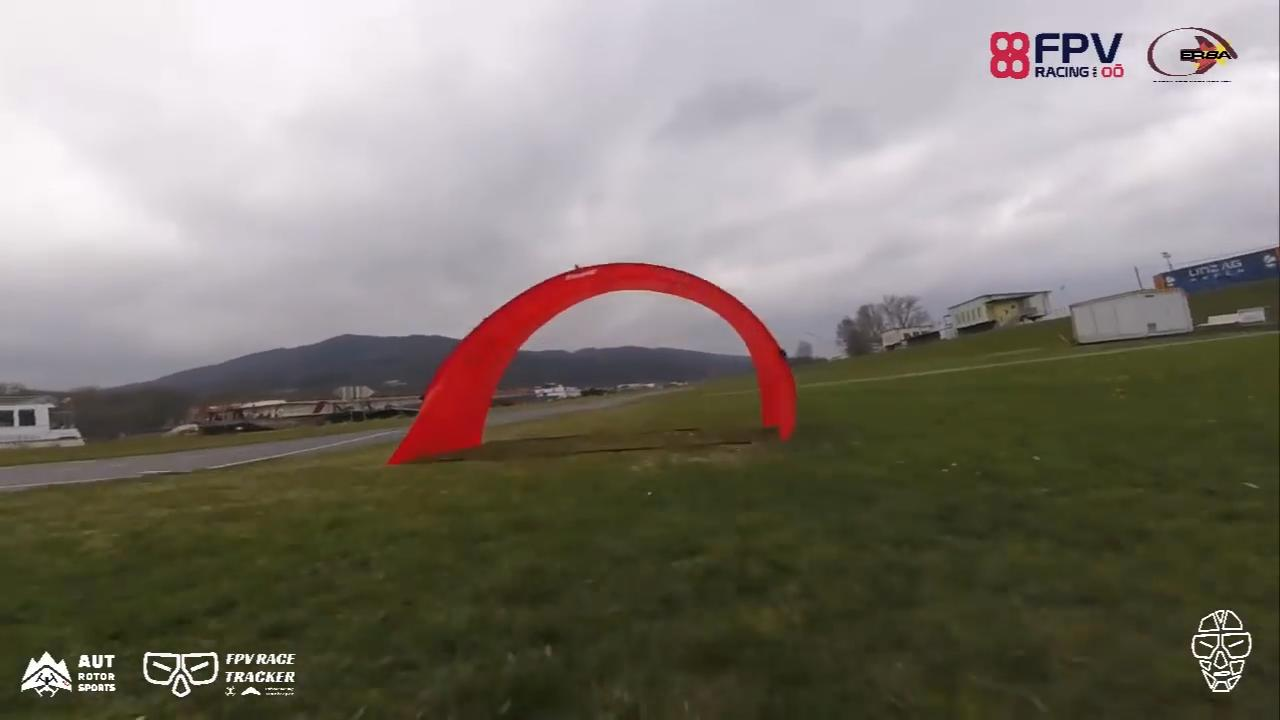gate: (389, 260, 803, 470)
